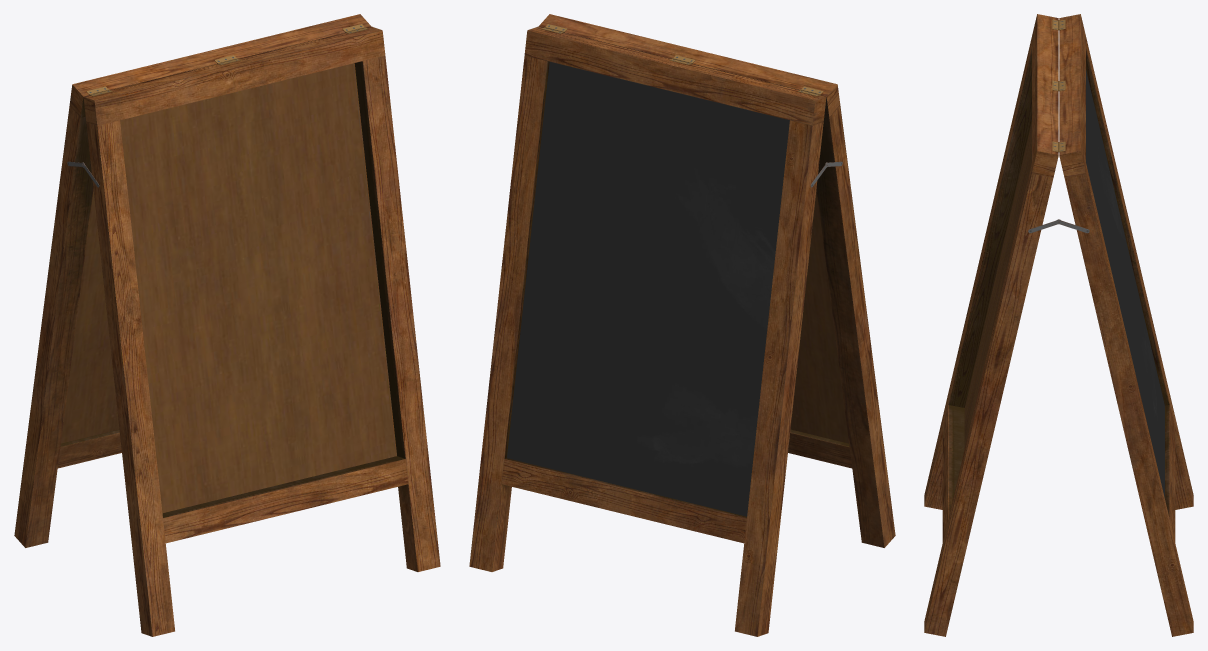
File: chalkboard.obj
3 renders of one model, left to right at view 1: azimuth 30°, elevation 25°; view 2: azimuth 150°, elevation 25°; view 3: azimuth 270°, elevation 25°, orthographic. The views are drawn at different scales.
Parts seen in each view (by area): view 1: Chalkboard_Cube.012; view 2: Chalkboard_Cube.012; view 3: Chalkboard_Cube.012.
Part boxes in pixels (x1,y1,x2,y2): Chalkboard_Cube.012: [14, 14, 440, 636]; Chalkboard_Cube.012: [469, 14, 895, 636]; Chalkboard_Cube.012: [924, 14, 1193, 636].
Bounding box in the file's own units: 2.19 × 3.59 × 1.8.
